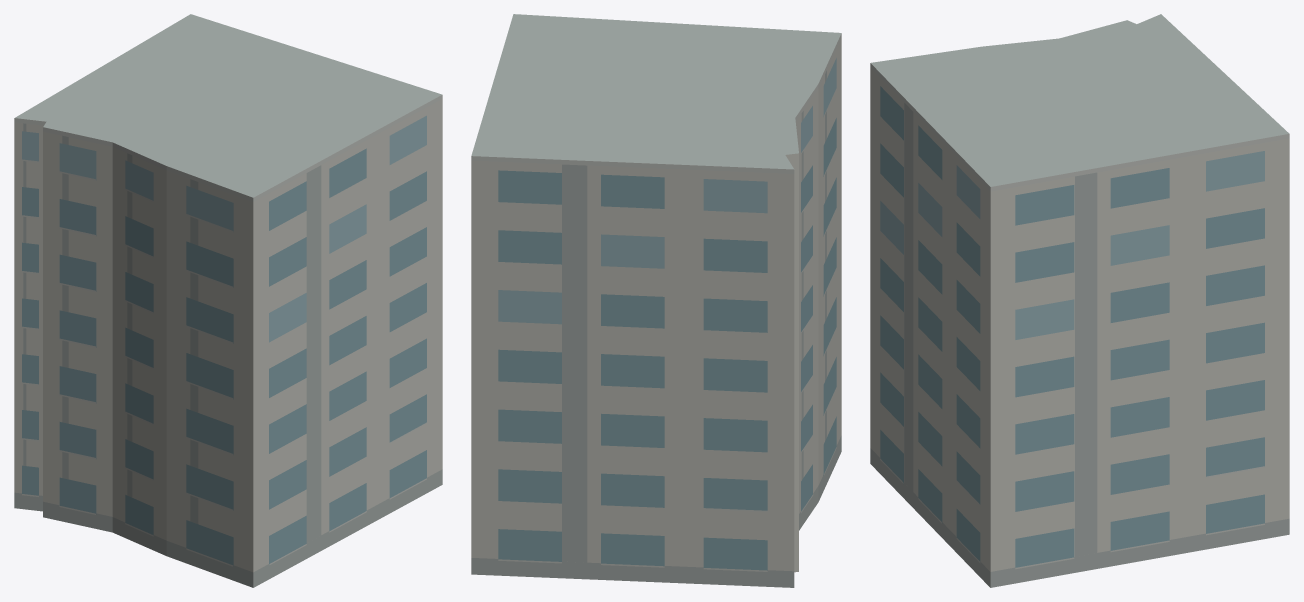
The model's file is survey-upis-32863714.glb.
The picture shows the model from 3 angles, left to right: view 1: azimuth 30°, elevation 25°; view 2: azimuth 150°, elevation 25°; view 3: azimuth 270°, elevation 25°; orthographic projection. The views are drawn at different scales.
Parts seen in each view (by area): view 1: survey-upis-32863714.tmp; view 2: survey-upis-32863714.tmp; view 3: survey-upis-32863714.tmp.
Part boxes in pixels (box(x1,y1,x2,y2)): survey-upis-32863714.tmp: box(14, 14, 442, 587); survey-upis-32863714.tmp: box(471, 14, 841, 587); survey-upis-32863714.tmp: box(870, 14, 1289, 587).
Size of the model in its own units: 20.19 by 21.8 by 20.67.
